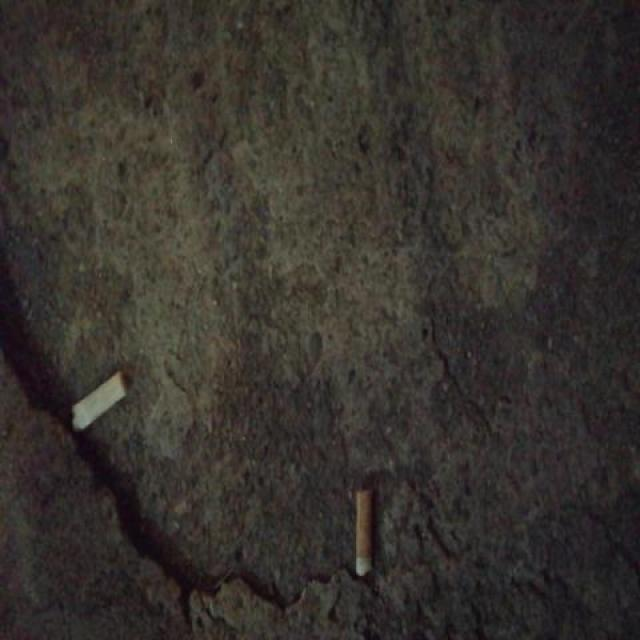non-organic waste: (68, 363, 131, 437), (353, 485, 375, 579)
